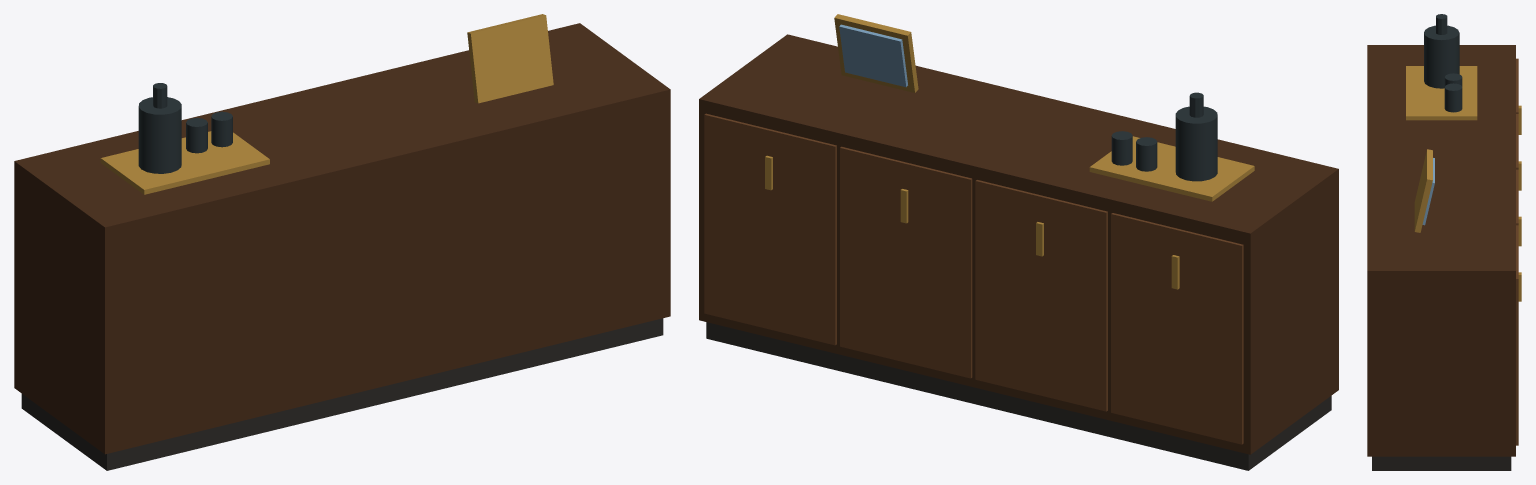
File: SM_80s_Credenza.glb
The picture shows the model from 3 angles, left to right: view 1: azimuth 30°, elevation 25°; view 2: azimuth 150°, elevation 25°; view 3: azimuth 270°, elevation 25°; orthographic projection. The views are drawn at different scales.
Parts seen in each view (by area): view 1: SM_80s_Credenza; view 2: SM_80s_Credenza; view 3: SM_80s_Credenza.
Part boxes in pixels (x1,y1,x2,y2): SM_80s_Credenza: (14, 14, 670, 470); SM_80s_Credenza: (699, 14, 1338, 470); SM_80s_Credenza: (1367, 14, 1521, 470).
Bounding box in the file's own units: 2.38 × 1.33 × 0.685.
